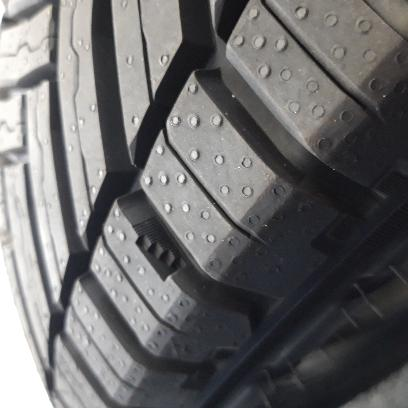temoin:100: (130, 214, 193, 284)
